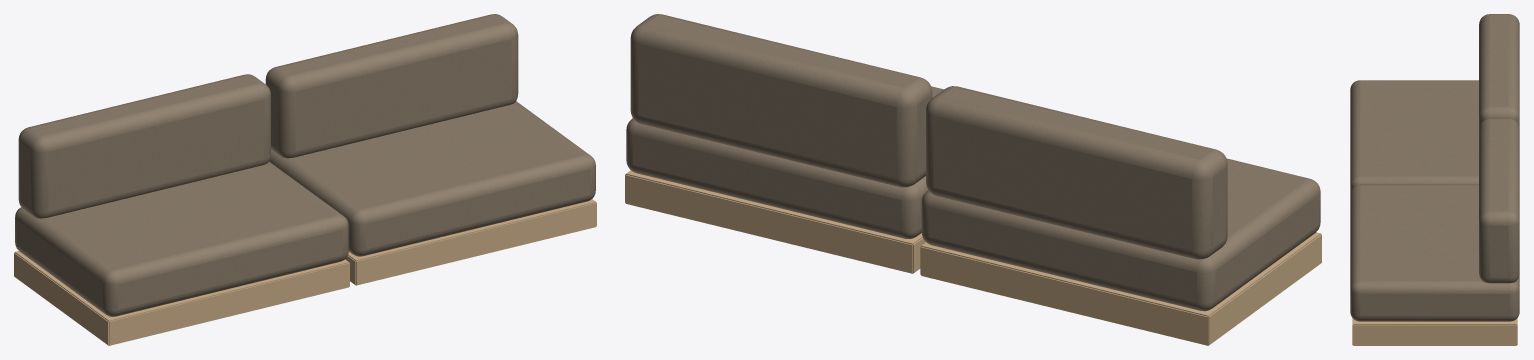
3 renders of one model, left to right at view 1: azimuth 30°, elevation 25°; view 2: azimuth 150°, elevation 25°; view 3: azimuth 270°, elevation 25°, orthographic. The views are drawn at different scales.
Visible parts, largest first — view 1: sf3s-101-2-seater; view 2: sf3s-101-2-seater; view 3: sf3s-101-2-seater.
Part boxes in pixels (<box>): sf3s-101-2-seater: <box>14,14,596,345</box>; sf3s-101-2-seater: <box>625,14,1321,345</box>; sf3s-101-2-seater: <box>1350,14,1519,345</box>.
Bounding box in the file's own units: 2.24 × 0.65 × 0.77.
Materials: 2 (1 with a texture image).
